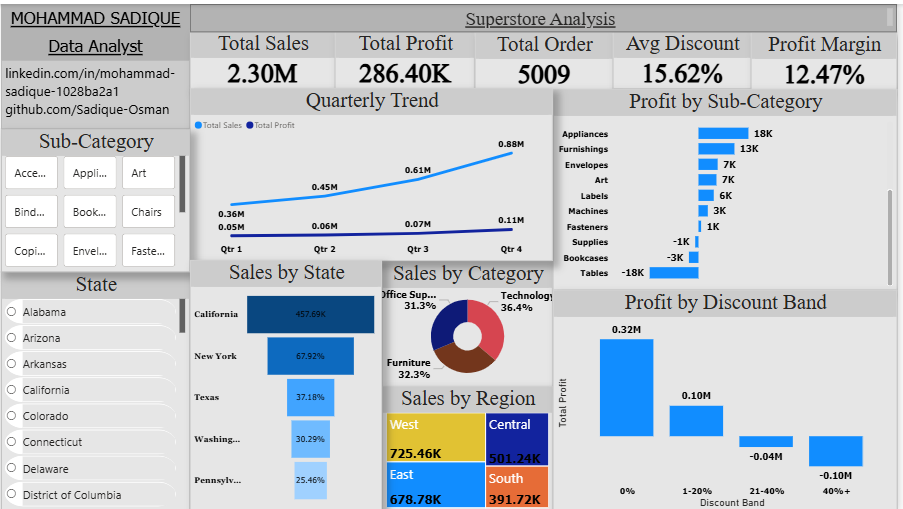

This screenshot's page, from the dashboard's own definition file:
{"tool":"powerbi","page":{"name":"Page 1","canvas":[1280,720],"ordinal":0},"visuals":[{"type":"shape","box":[9.9,0,267.9,720],"z":0},{"type":"textbox","box":[9.9,0,267.9,39.7],"z":1000},{"type":"textbox","box":[9.9,39.7,267.9,39.7],"z":2000},{"type":"textbox","box":[9.9,79.4,267.9,97.8],"z":3000},{"type":"card","title":"Total Sales","fields":{"Values":["Sample - Superstore.Total Sales"]},"box":[277.8,38.3,205.5,82.2],"z":4000},{"type":"card","title":"Total Profit","fields":{"Values":["Sample - Superstore.Total Profit"]},"box":[483.3,38.3,198.4,82.2],"z":5000},{"type":"card","title":"Total Order","fields":{"Values":["Sample - Superstore.Total Order"]},"box":[681.7,39.7,195.6,82.2],"z":6000},{"type":"card","title":"Avg Discount","fields":{"Values":["Sample - Superstore.Avg Discount"]},"box":[877.3,38.3,195.6,82.2],"z":7000},{"type":"card","title":"Profit Margin","fields":{"Values":["Sample - Superstore.Proft Margin %"]},"box":[1072.9,39.7,206.9,82.2],"z":8000},{"type":"donutChart","title":"Sales by Category","fields":{"Category":["Sample - Superstore.Category"],"Y":["Sample - Superstore.Total Sales"]},"box":[549.9,364.3,242.4,181.4],"z":9000},{"type":"barChart","title":"Profit by Sub-Category","fields":{"Category":["Sample - Superstore.Sub-Category"],"Y":["Sample - Superstore.Total Profit"]},"box":[792.3,120.5,487.6,284.9],"z":10000},{"type":"treemap","title":"Sales by Region","fields":{"Group":["Sample - Superstore.Region"],"Values":["Sample - Superstore.Total Sales"]},"box":[549.9,541.4,242.4,178.6],"z":11000},{"type":"lineChart","title":"Quarterly Trend","fields":{"Category":["Sample - Superstore.Order Date.Variation.Date Hierarchy.Quarter"],"Y":["Sample - Superstore.Total Sales","Sample - Superstore.Total Profit"]},"box":[277.8,119.1,514.5,245.2],"z":12000},{"type":"listSlicer","fields":{"Values":["Sample - Superstore.State"]},"box":[9.9,379.8,267.9,340.2],"z":13000},{"type":"advancedSlicerVisual","fields":{"Values":["Sample - Superstore.Sub-Category"]},"box":[9.9,177.2,267.9,202.7],"z":14000},{"type":"textbox","box":[277.8,0,1002,39.7],"z":15000},{"type":"funnel","title":"Sales by State","fields":{"Y":["Sample - Superstore.Total Sales"],"Category":["Sample - Superstore.State"]},"box":[277.8,362.8,272.1,357.2],"z":17000},{"type":"clusteredColumnChart","title":"Profit by Discount Band","fields":{"Category":["Sample - Superstore.Discount Band"],"Y":["Sample - Superstore.Total Profit"]},"box":[792.3,405.4,487.6,314.6],"z":17001}]}

Visuals, with their boxes in screenshot pixels (x1, y1, x2, y2), scaled from the page's 1280x720 canvas onto the 903x509 screenshot:
shape: (left=7, top=0, right=196, bottom=508)
textbox: (left=7, top=0, right=196, bottom=28)
textbox: (left=7, top=28, right=196, bottom=56)
textbox: (left=7, top=56, right=196, bottom=125)
"Total Sales" card: (left=196, top=27, right=341, bottom=85)
"Total Profit" card: (left=341, top=27, right=481, bottom=85)
"Total Order" card: (left=481, top=28, right=619, bottom=86)
"Avg Discount" card: (left=619, top=27, right=757, bottom=85)
"Profit Margin" card: (left=757, top=28, right=902, bottom=86)
"Sales by Category" donutChart: (left=388, top=258, right=559, bottom=386)
"Profit by Sub-Category" barChart: (left=559, top=85, right=902, bottom=287)
"Sales by Region" treemap: (left=388, top=383, right=559, bottom=508)
"Quarterly Trend" lineChart: (left=196, top=84, right=559, bottom=258)
listSlicer - Sample - Superstore.State: (left=7, top=268, right=196, bottom=508)
advancedSlicerVisual - Sample - Superstore.Sub-Category: (left=7, top=125, right=196, bottom=269)
textbox: (left=196, top=0, right=902, bottom=28)
"Sales by State" funnel: (left=196, top=256, right=388, bottom=508)
"Profit by Discount Band" clusteredColumnChart: (left=559, top=287, right=902, bottom=508)
